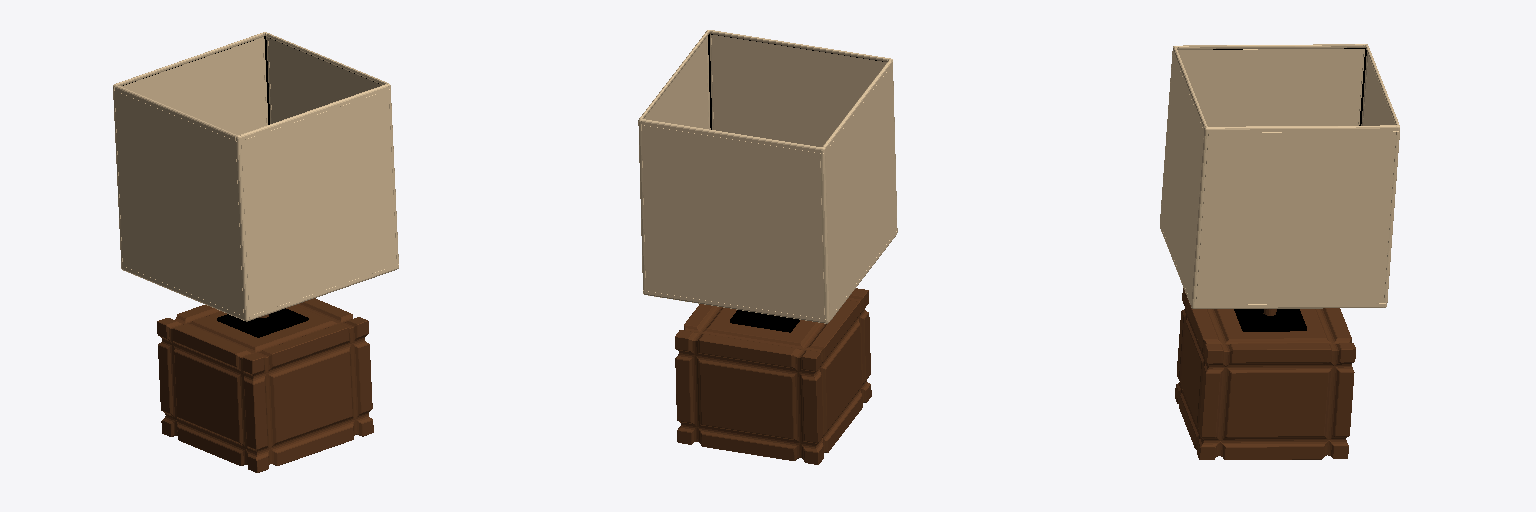
The picture shows the model from 3 angles: view 1: azimuth 30°, elevation 25°; view 2: azimuth 150°, elevation 25°; view 3: azimuth 270°, elevation 25°; orthographic projection.
Parts seen in each view (by area): view 1: Eichholtz_Academia_mat_1_:Eichholtz_Academia_mat1; view 2: Eichholtz_Academia_mat_1_:Eichholtz_Academia_mat1; view 3: Eichholtz_Academia_mat_1_:Eichholtz_Academia_mat1.
Boxes of the visible parts, box(x1,y1,x2,y2) form: Eichholtz_Academia_mat_1_:Eichholtz_Academia_mat1: box(113, 32, 398, 472); Eichholtz_Academia_mat_1_:Eichholtz_Academia_mat1: box(638, 30, 897, 464); Eichholtz_Academia_mat_1_:Eichholtz_Academia_mat1: box(1160, 44, 1399, 459).
Bounding box in the file's own units: 2.98 × 5.03 × 3.12.
Materials: 9 (2 with a texture image).